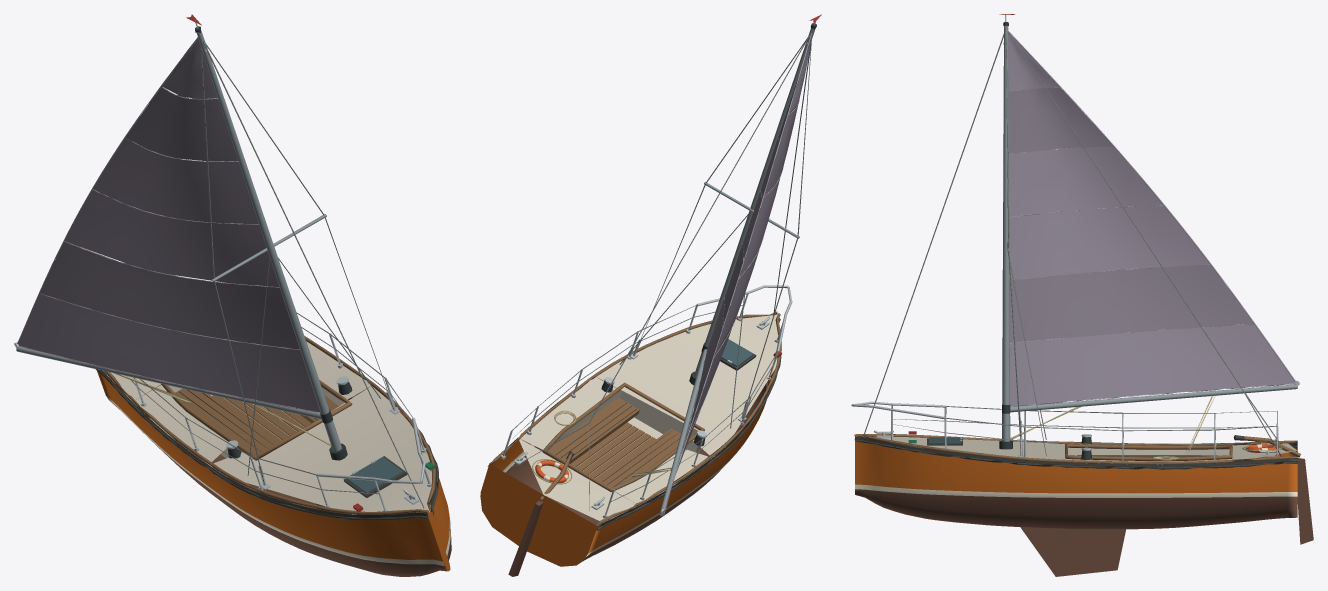
File: Harbor-Sailboat-LOD1.glb
The picture shows the model from 3 angles, left to right: view 1: azimuth 30°, elevation 25°; view 2: azimuth 150°, elevation 25°; view 3: azimuth 270°, elevation 25°; orthographic projection. The views are drawn at different scales.
Visible parts, largest first — view 1: MainsailTrim | geometry, DeckAndCockpit | geometry, HullSkin | geometry, StandingRig | geometry, DeckHardware | geometry; view 2: DeckAndCockpit | geometry, HullSkin | geometry, MainsailTrim | geometry, StandingRig | geometry, DeckHardware | geometry; view 3: MainsailTrim | geometry, HullSkin | geometry, DeckAndCockpit | geometry, StandingRig | geometry, DeckHardware | geometry.
Boxes of the visible parts, x1,y1,x2,y2 form: MainsailTrim | geometry: (14,37,332,446); DeckAndCockpit | geometry: (95,336,438,520); HullSkin | geometry: (97,370,451,576); StandingRig | geometry: (186,14,424,508); DeckHardware | geometry: (130,312,434,511); DeckAndCockpit | geometry: (487,311,781,530); HullSkin | geometry: (480,370,774,576); MainsailTrim | geometry: (632,33,811,516); StandingRig | geometry: (514,14,821,510); DeckHardware | geometry: (500,285,792,518); MainsailTrim | geometry: (1002,31,1299,450); HullSkin | geometry: (855,437,1313,576); DeckAndCockpit | geometry: (854,434,1300,469); StandingRig | geometry: (863,14,1281,456); DeckHardware | geometry: (851,401,1281,461).
Size of the model in its own units: 3.28 by 8.06 by 6.89.
